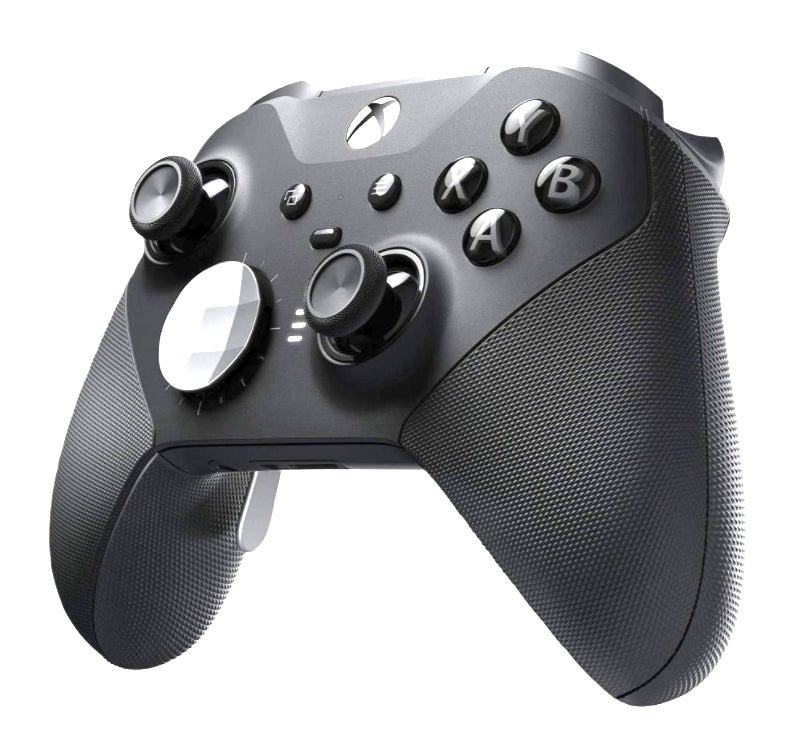controller: (46, 46, 747, 707)
